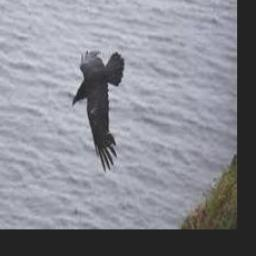Crow: (71, 47, 125, 172)
